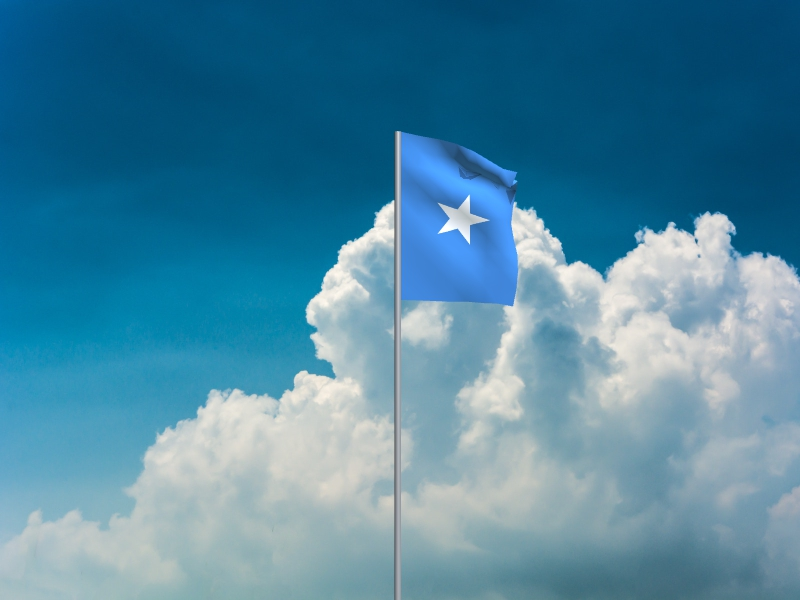so: (401, 134, 520, 308)
